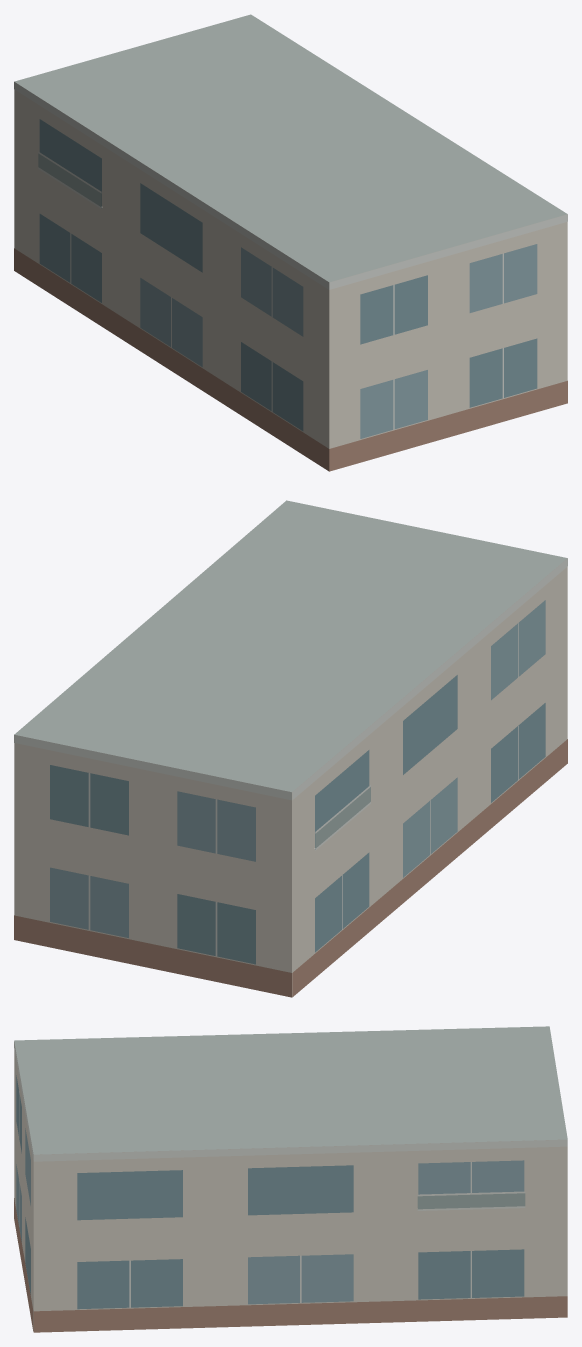
The model's file is survey-upis-33044505.glb.
3 renders of one model, top to bottom at view 1: azimuth 30°, elevation 25°; view 2: azimuth 150°, elevation 25°; view 3: azimuth 270°, elevation 25°, orthographic. The views are drawn at different scales.
Visible parts, largest first — view 1: survey-upis-33044505.tmp; view 2: survey-upis-33044505.tmp; view 3: survey-upis-33044505.tmp.
Part boxes in pixels (x1,y1,x2,y2): survey-upis-33044505.tmp: (14, 14, 567, 471); survey-upis-33044505.tmp: (14, 500, 567, 997); survey-upis-33044505.tmp: (14, 1026, 567, 1332).
Bounding box in the file's own units: 9.44 × 6.1 × 17.21.
